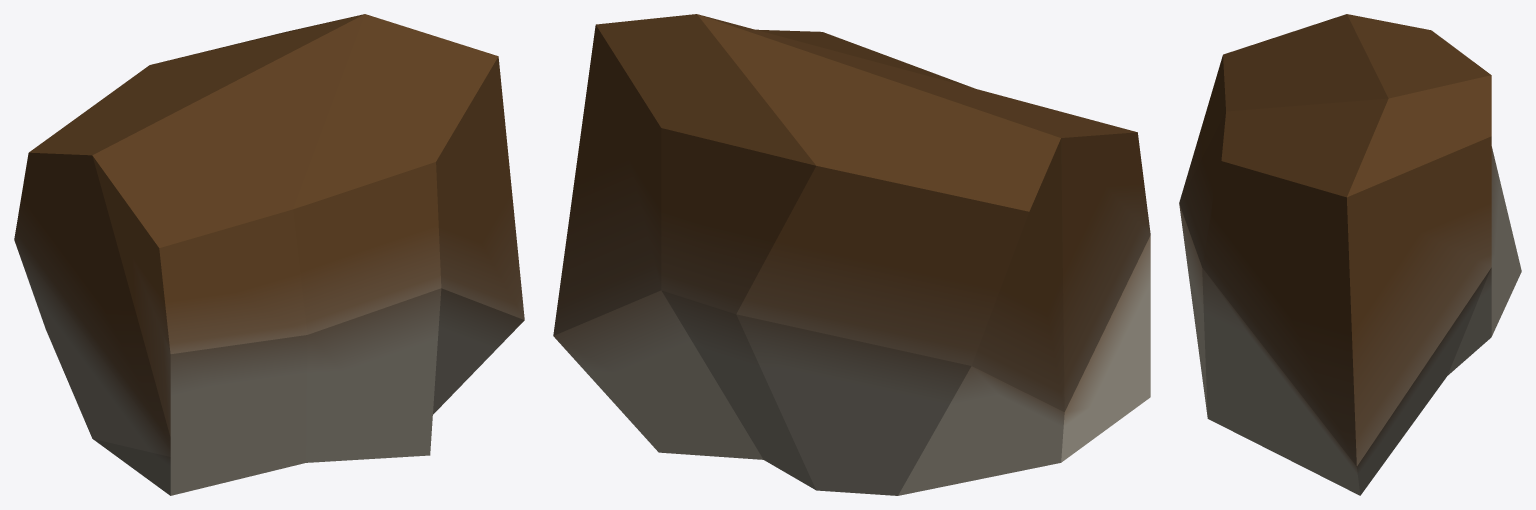
Rendered from PiedraMuyFacha.fbx.
3 views of the same model, side by side, from view 1: azimuth 30°, elevation 25°; view 2: azimuth 150°, elevation 25°; view 3: azimuth 270°, elevation 25° (orthographic). The views are drawn at different scales.
Parts seen in each view (by area): view 1: Piedra; view 2: Piedra; view 3: Piedra.
Boxes of the visible parts, x1,y1,x2,y2 form: Piedra: [14, 14, 524, 495]; Piedra: [553, 14, 1150, 495]; Piedra: [1179, 14, 1521, 495].
Bounding box in the file's own units: 337 × 286 × 237.
1 material, 1 textured.
